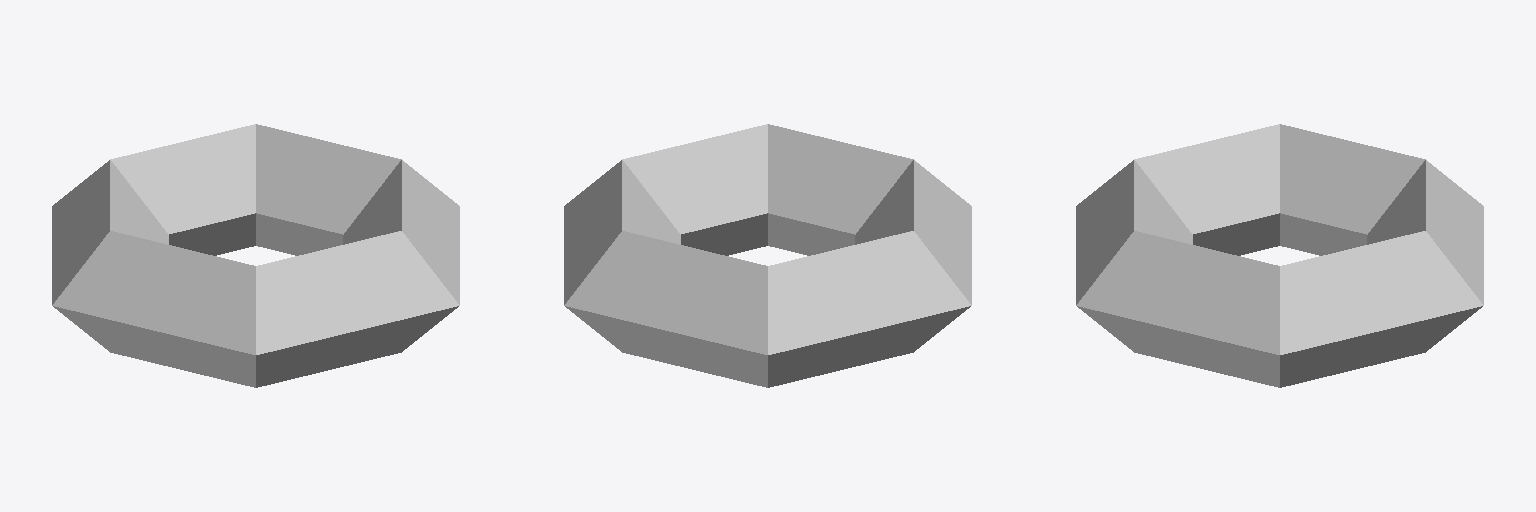
The model's file is explosion_6.obj.
3 views of the same model, side by side, from view 1: azimuth 30°, elevation 25°; view 2: azimuth 150°, elevation 25°; view 3: azimuth 270°, elevation 25° (orthographic).
Parts seen in each view (by area): view 1: Sphere; view 2: Sphere; view 3: Sphere.
Boxes of the visible parts, <box> form: Sphere: <box>52,124,459,387</box>; Sphere: <box>564,124,971,387</box>; Sphere: <box>1076,124,1483,387</box>.
Size of the model in its own units: 56 by 16 by 48.5.